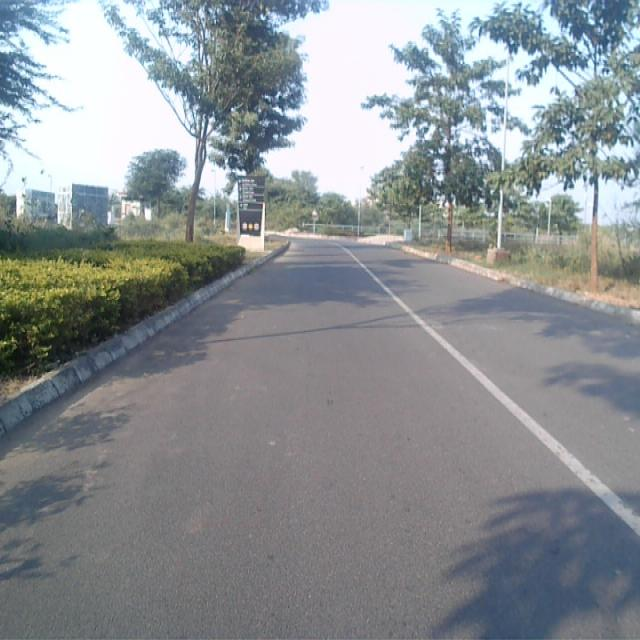lane: (0, 242, 640, 640)
